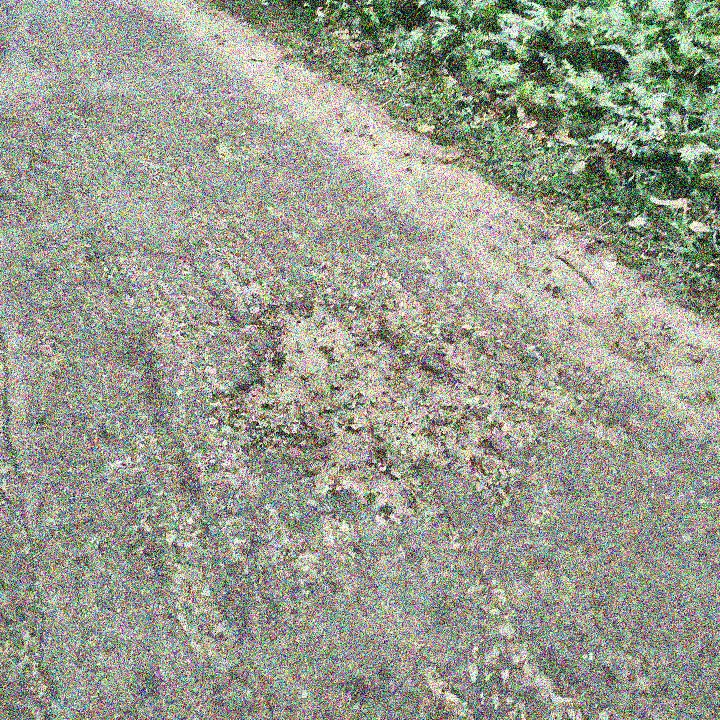pothole: (223, 295, 476, 505)
